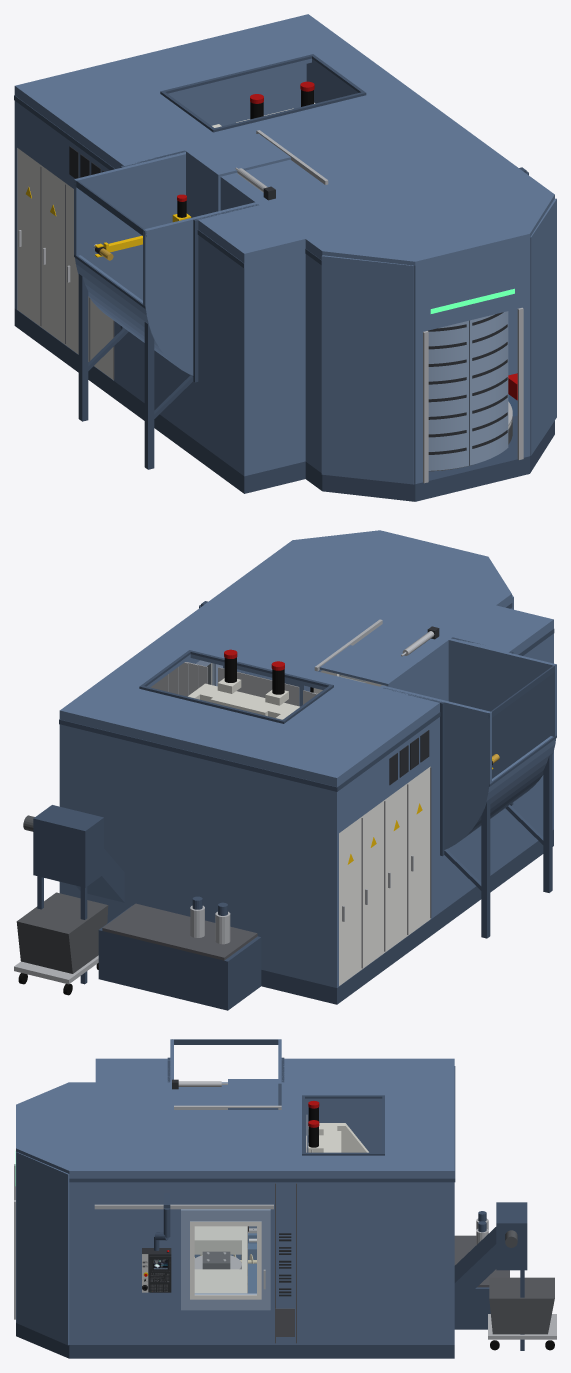
The model's file is hmc_x1000_4ax_blue_right.glb.
The picture shows the model from 3 angles, top to bottom: view 1: azimuth 30°, elevation 25°; view 2: azimuth 150°, elevation 25°; view 3: azimuth 270°, elevation 25°; orthographic projection. The views are drawn at different scales.
Parts seen in each view (by area): view 1: enclosure__fms_blue, apc_housing__fms_blue, tc_box__fms_blue, electrical_cabinet__hmc_white, enclosure__fms_blue_dk, apc_housing__fms_blue_dk, apc_door_left__door_blue, apc_door_right__door_blue, tc_box__fms_blue_dk, tc_door__fms_blue, apc_housing__steel, apc_door_left__anthracite (+4 smaller); view 2: enclosure__fms_blue, tc_box__fms_blue, chip_coolant__fms_blue_dk, electrical_cabinet__hmc_white, enclosure__fms_blue_dk, apc_housing__fms_blue, chip_cart__steel_dark, tc_box__fms_blue_dk, chip_coolant__anthracite_lt, tc_door__fms_blue, column__struct_grey, electrical_cabinet__anthracite_lt (+6 smaller); view 3: enclosure__fms_blue, apc_housing__fms_blue, enclosure__fms_blue_dk, chip_coolant__fms_blue_dk, operator_door__glass_clear, operator_door__door_blue, chip_cart__steel_dark, table__struct_grey, enclosure__steel, operator_door__hmc_white, tc_door__fms_blue, column__struct_grey (+11 smaller).
Boxes of the visible parts, x1,y1,x2,y2 form: enclosure__fms_blue: (14,14,537,476); apc_housing__fms_blue: (305,182,556,484); tc_box__fms_blue: (74,152,257,375); electrical_cabinet__hmc_white: (17,148,113,380); enclosure__fms_blue_dk: (14,54,366,493); apc_housing__fms_blue_dk: (305,248,554,501); apc_door_left__door_blue: (428,320,468,470); apc_door_right__door_blue: (469,311,508,465); tc_box__fms_blue_dk: (74,179,193,469); tc_door__fms_blue: (186,133,290,217); apc_housing__steel: (423,307,523,483); apc_door_left__anthracite: (428,324,466,454); enclosure__fms_blue: (59,552,553,987); tc_box__fms_blue: (384,638,556,849); chip_coolant__fms_blue_dk: (33,805,261,1010); electrical_cabinet__hmc_white: (339,766,430,985); enclosure__fms_blue_dk: (59,628,554,1004); apc_housing__fms_blue: (277,530,513,691); chip_cart__steel_dark: (16,892,108,973); tc_box__fms_blue_dk: (444,665,556,938); chip_coolant__anthracite_lt: (102,903,257,960); tc_door__fms_blue: (319,645,418,693); column__struct_grey: (188,678,299,719); electrical_cabinet__anthracite_lt: (361,767,431,968); enclosure__fms_blue: (95,1058,454,1344); apc_housing__fms_blue: (16,1082,95,1345); enclosure__fms_blue_dk: (95,1057,455,1358); chip_coolant__fms_blue_dk: (454,1202,527,1350); operator_door__glass_clear: (195,1227,256,1293); operator_door__door_blue: (181,1209,270,1310); chip_cart__steel_dark: (489,1277,554,1334); table__struct_grey: (194,1226,247,1293); enclosure__steel: (94,1081,281,1209); operator_door__hmc_white: (190,1221,261,1299); tc_door__fms_blue: (228,1079,278,1109); column__struct_grey: (308,1123,368,1152).
Bounding box in the file's own units: 5.06 × 3.22 × 7.86.
23 materials, 2 textured.
